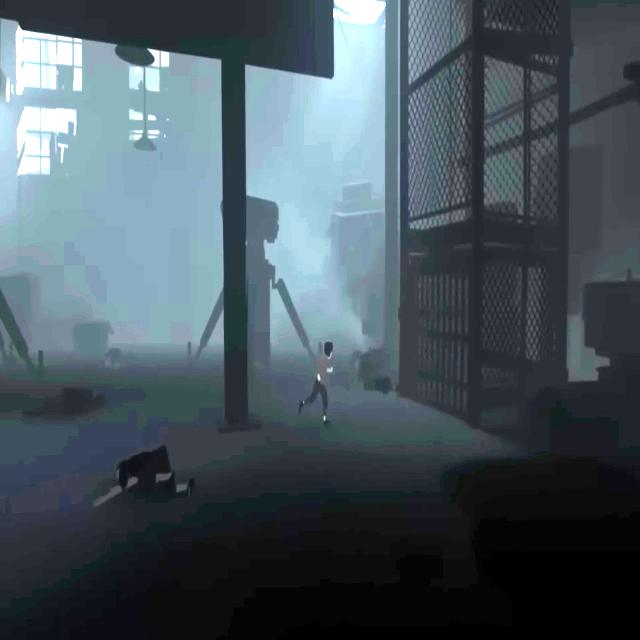boy: (299, 341, 333, 426)
zombie: (92, 444, 195, 508)
